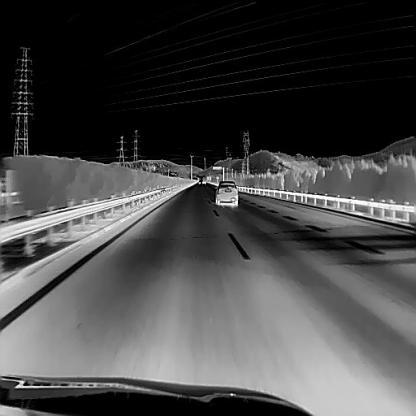car: (215, 180, 238, 205)
